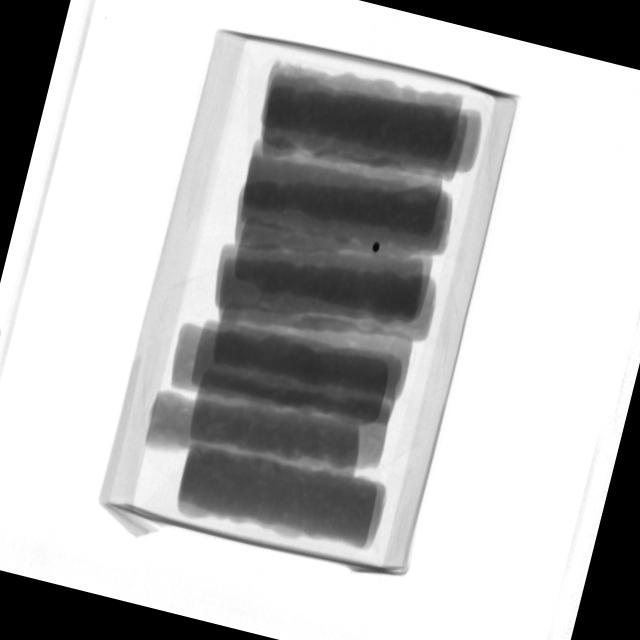ym: (372, 244, 382, 255)
